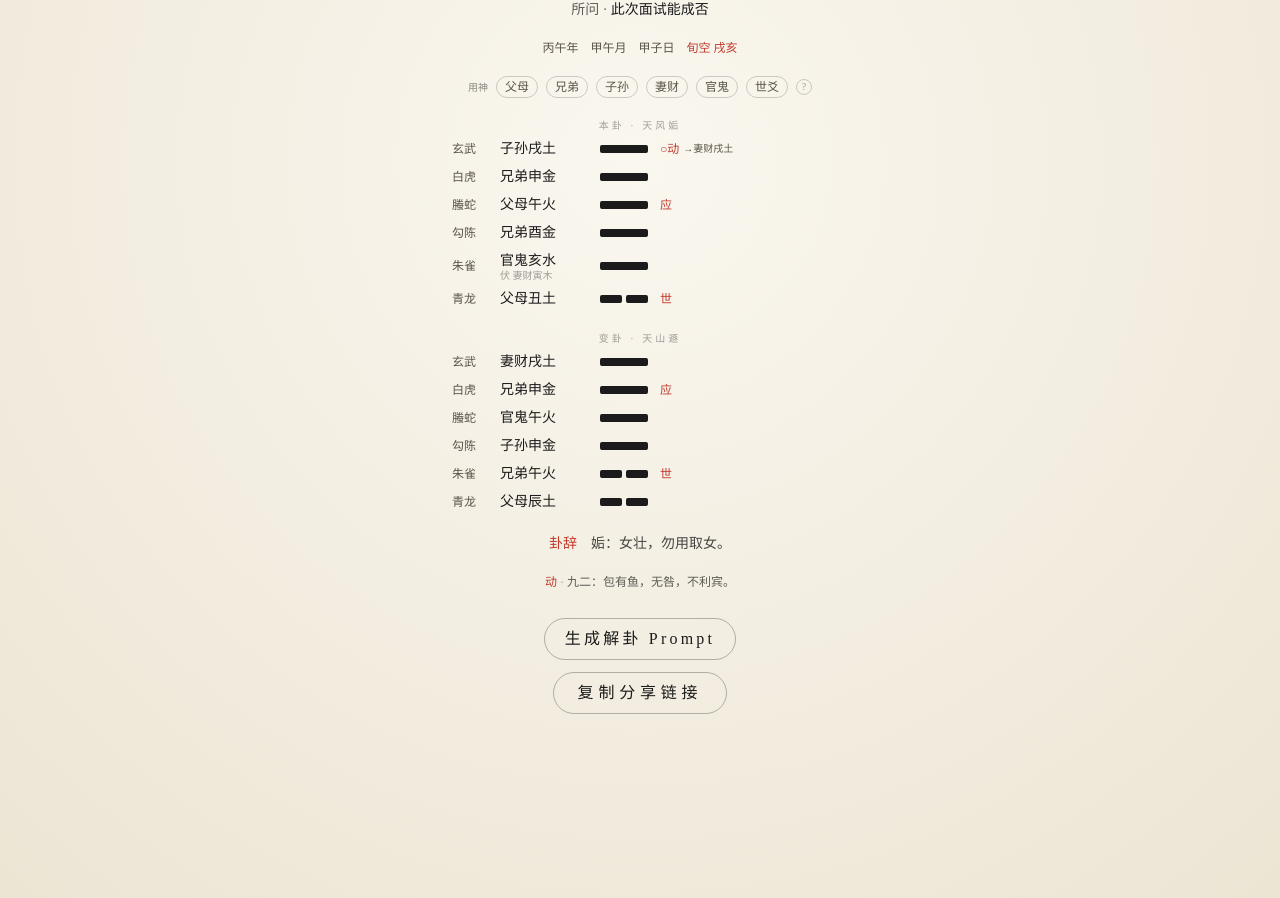
Test case: ResultView › 用神不上卦取伏神：高亮伏神所挂爻并标用神·伏
Click the button with test id "yongshen-妻财".
click(667, 87)  # box [646,76,688,98]
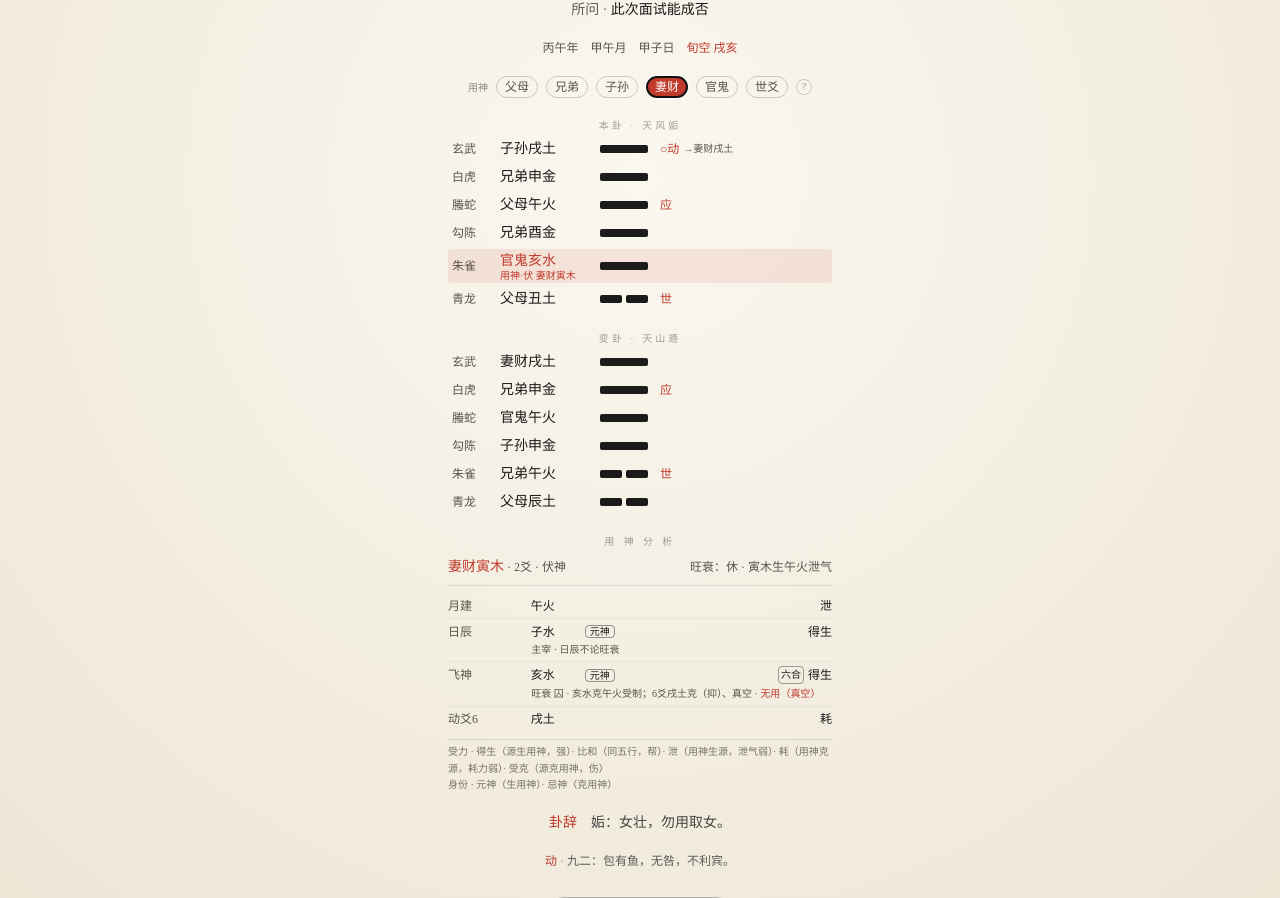
Expected: the text "用神·伏 妻财寅木" is shown, [500,271,588,281]
